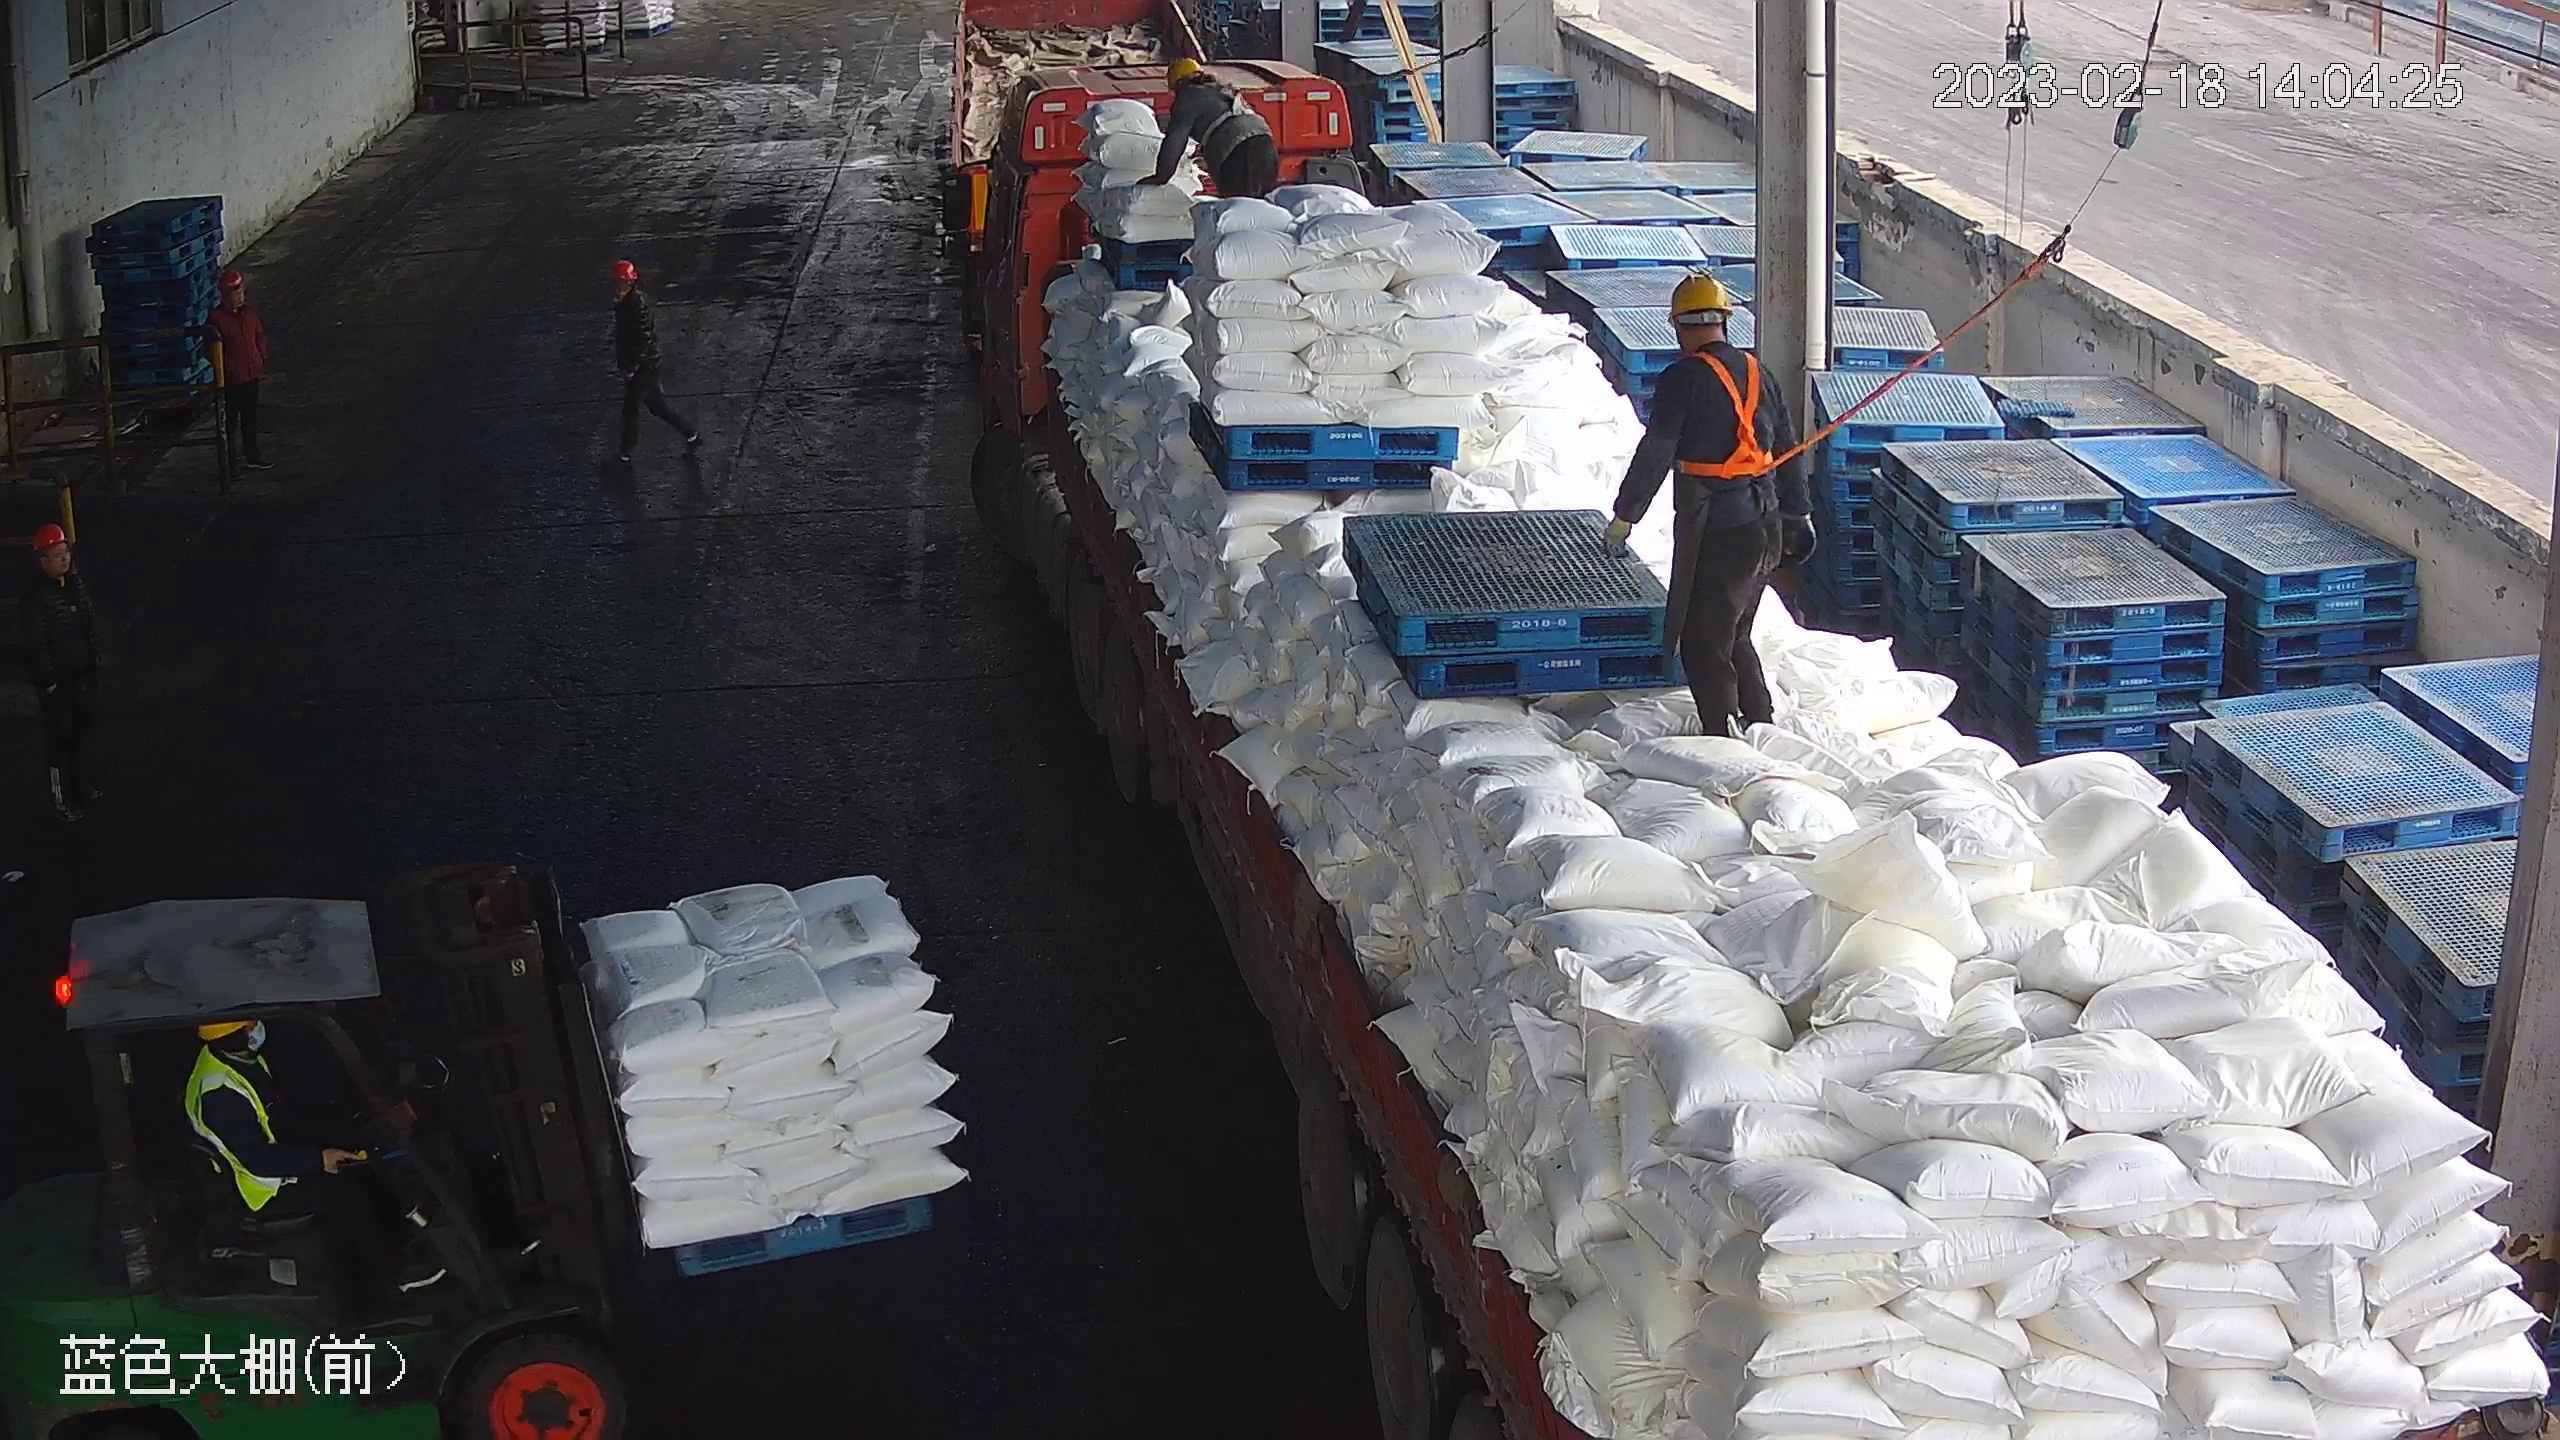belt: (1675, 346, 1791, 479), (1184, 72, 1252, 132)
head: (1645, 270, 1787, 413), (185, 1010, 299, 1120), (14, 519, 101, 618), (1157, 56, 1236, 116), (207, 261, 265, 325), (605, 259, 653, 328)
helmet: (1661, 268, 1735, 321), (31, 518, 69, 552), (1164, 56, 1203, 88), (607, 256, 639, 283), (219, 259, 250, 283)
people: (1600, 267, 1797, 735), (178, 1001, 405, 1280), (16, 511, 114, 835), (599, 256, 701, 481), (1147, 54, 1281, 208), (201, 259, 279, 492)
truck: (958, 36, 2551, 1440)
